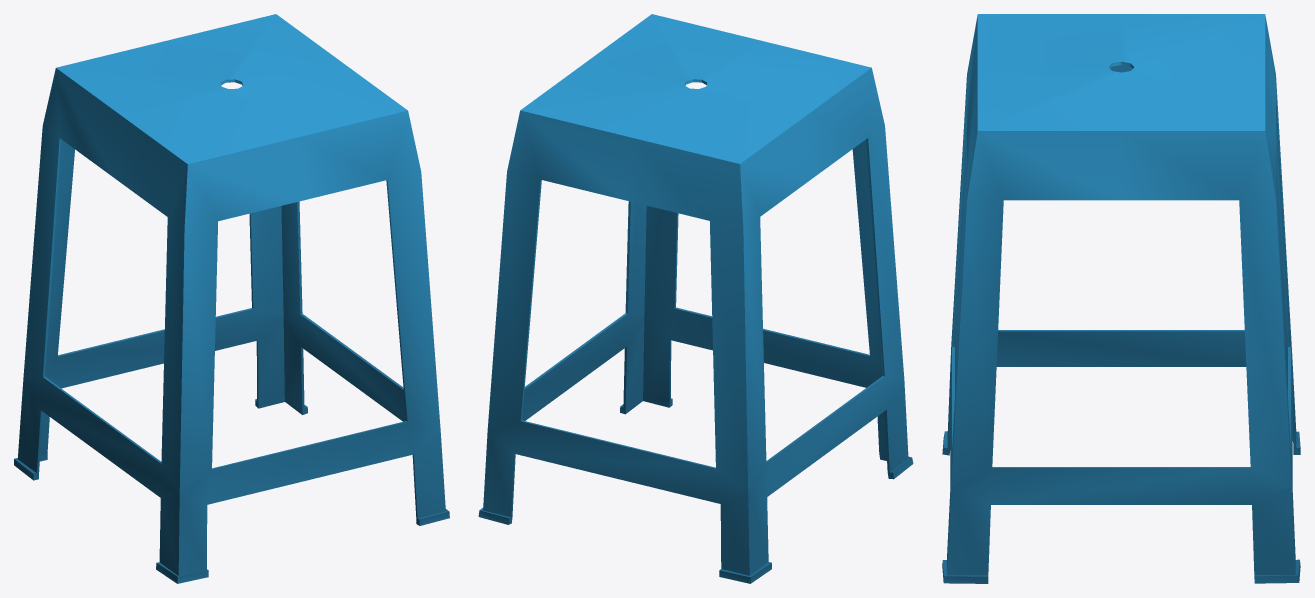
File: BangkuPlastik.fbx
The picture shows the model from 3 angles, left to right: view 1: azimuth 30°, elevation 25°; view 2: azimuth 150°, elevation 25°; view 3: azimuth 270°, elevation 25°; orthographic projection. The views are drawn at different scales.
Parts seen in each view (by area): view 1: BangkuPlastik_LOD0; view 2: BangkuPlastik_LOD0; view 3: BangkuPlastik_LOD0.
Part boxes in pixels (<box>): BangkuPlastik_LOD0: <box>14,14,449,583</box>; BangkuPlastik_LOD0: <box>478,14,913,583</box>; BangkuPlastik_LOD0: <box>942,14,1300,583</box>.
Size of what is drawn, in the model's own units: 49.47 by 70.32 by 51.35.
